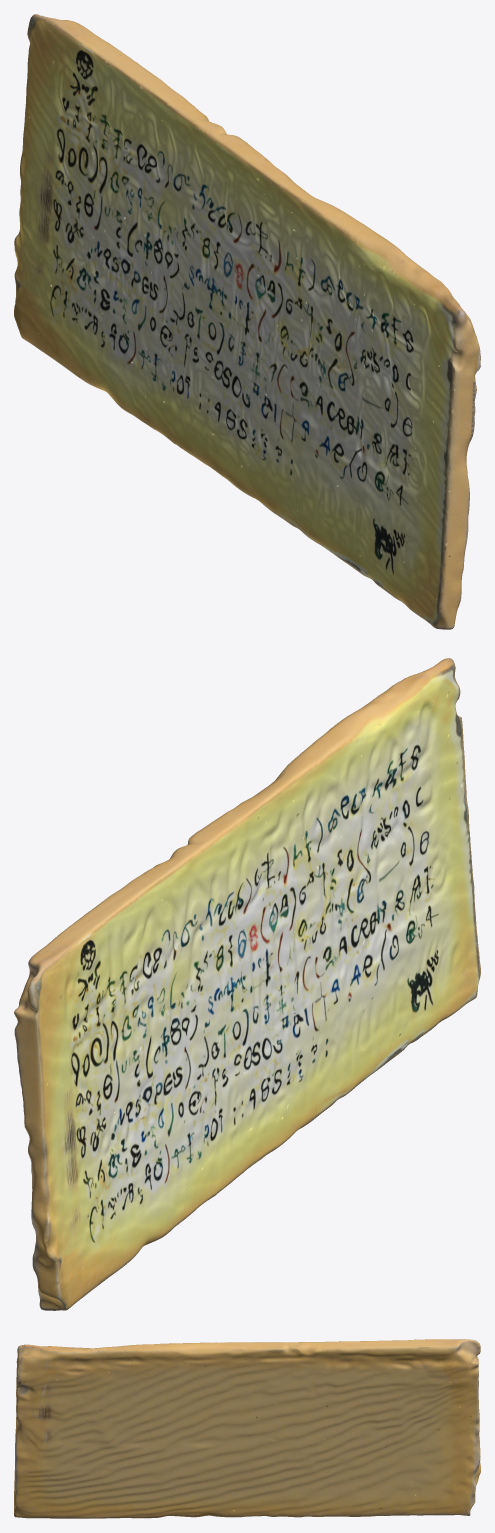
Rendered from Meshy_AI_Cryptic_Code_Scroll_0210082021_texture.glb.
3 views of the same model, one above another, from view 1: azimuth 30°, elevation 25°; view 2: azimuth 150°, elevation 25°; view 3: azimuth 270°, elevation 25° (orthographic). The views are drawn at different scales.
Bounding box in the file's own units: 0.1663 × 0.8442 × 2.
1 material, 1 textured.
